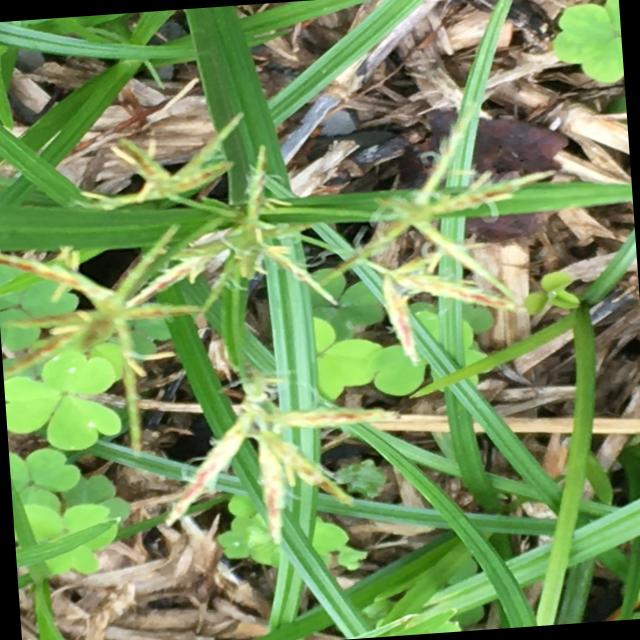cyperus: (0, 96, 583, 563)
